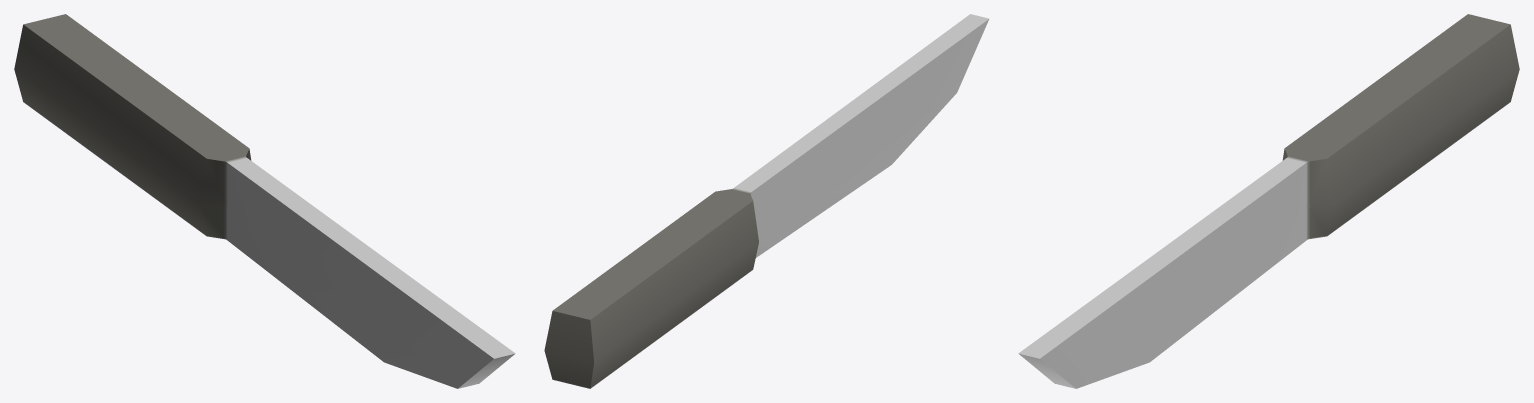
Rendered from knife.fbx.
3 views of the same model, side by side, from view 1: azimuth 30°, elevation 25°; view 2: azimuth 150°, elevation 25°; view 3: azimuth 330°, elevation 25° (orthographic). The views are drawn at different scales.
Visible parts, largest first — view 1: knife_mesh; view 2: knife_mesh; view 3: knife_mesh.
Part boxes in pixels (x1,y1,x2,y2): knife_mesh: (14, 14, 515, 388); knife_mesh: (544, 14, 989, 388); knife_mesh: (1018, 14, 1519, 388).
Size of the model in its own units: 0.4835 by 0.6938 by 6.91.
2 materials, 2 textured.
